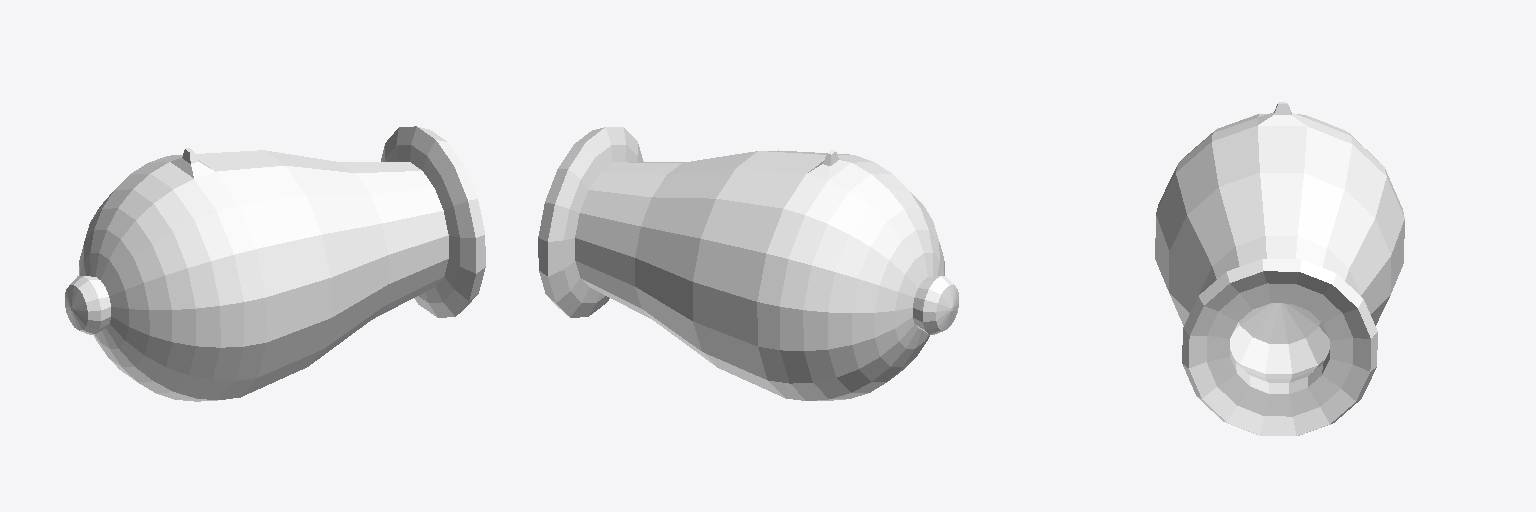
The model's file is gun.obj.
The picture shows the model from 3 angles: view 1: azimuth 30°, elevation 25°; view 2: azimuth 150°, elevation 25°; view 3: azimuth 270°, elevation 25°; orthographic projection.
Visible parts, largest first — view 1: Wheels.001_Circle.000; view 2: Wheels.001_Circle.000; view 3: Wheels.001_Circle.000.
Boxes of the visible parts, <box> form: Wheels.001_Circle.000: <box>65,126,485,401</box>; Wheels.001_Circle.000: <box>538,127,958,400</box>; Wheels.001_Circle.000: <box>1155,102,1404,435</box>.
Bounding box in the file's own units: 3.41 × 2.15 × 2.